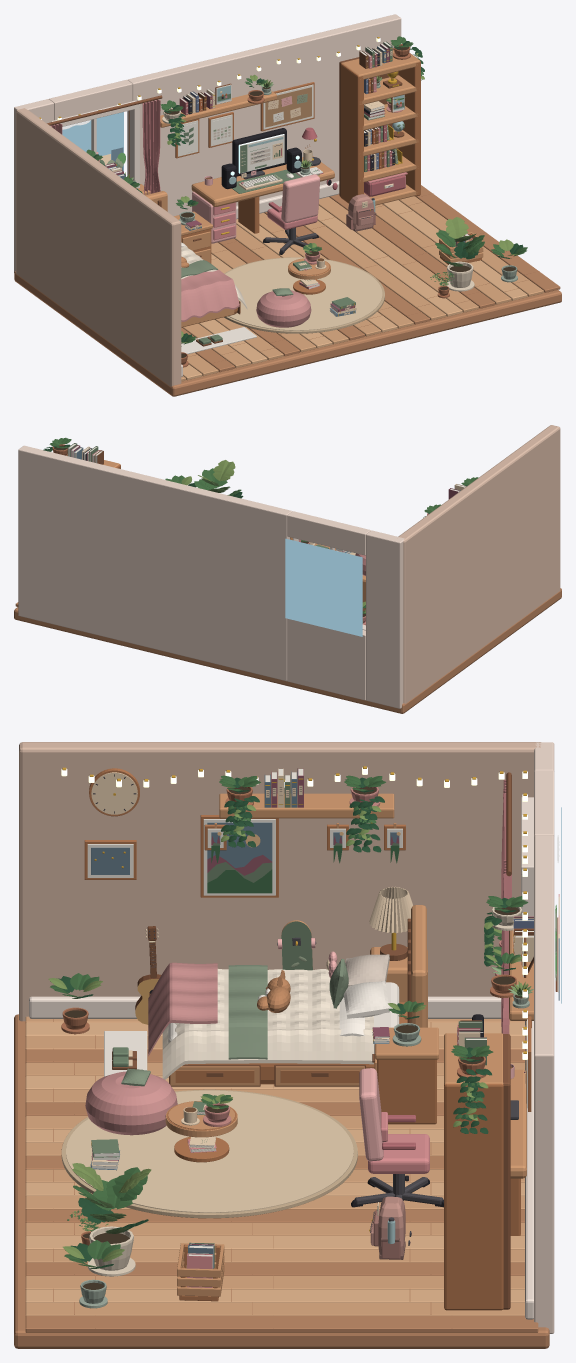
The model's file is cozy-room.glb.
The picture shows the model from 3 angles, top to bottom: view 1: azimuth 30°, elevation 25°; view 2: azimuth 150°, elevation 25°; view 3: azimuth 270°, elevation 25°; orthographic projection. The views are drawn at different scales.
Visible parts, largest first — view 1: room_MAT_WALL_SHADOW, room_MAT_WALL, room_MAT_FLOOR_DARK, room_MAT_FLOOR, room_MAT_OAK_LIGHT, room_MAT_OAK, room_MAT_FLOOR_LIGHT, room_MAT_RUG_CREAM, room_MAT_TEXTILE_ROSE, room_MAT_PAPER, room_MAT_PINK, room_MAT_PINK_LIGHT (+22 smaller); view 2: room_MAT_WALL, room_MAT_WALL_SHADOW, room_MAT_EXTERIOR_UNLIT_MAT_OUTDOOR_SKY, room_MAT_FLOOR_DARK, room_MAT_BOT_LEAF, room_MAT_BOT_LEAF_LIME; view 3: room_MAT_WALL_SHADOW, room_MAT_FLOOR_DARK, room_MAT_FLOOR, room_MAT_OAK, room_MAT_RUG_CREAM, room_MAT_FLOOR_LIGHT, room_MAT_OAK_LIGHT, room_MAT_WALL, room_MAT_TEXTILE_IVORY, room_MAT_TEXTILE_ROSE, room_MAT_TRIM, room_MAT_BOT_LEAF (+24 smaller).
Boxes of the visible parts, left/top/right/bottom form: room_MAT_WALL_SHADOW: left=16, top=108, right=181, bottom=386; room_MAT_WALL: left=14, top=14, right=401, bottom=272; room_MAT_FLOOR_DARK: left=14, top=185, right=561, bottom=396; room_MAT_FLOOR: left=181, top=196, right=543, bottom=381; room_MAT_OAK_LIGHT: left=129, top=50, right=483, bottom=326; room_MAT_OAK: left=175, top=54, right=481, bottom=327; room_MAT_FLOOR_LIGHT: left=183, top=200, right=527, bottom=380; room_MAT_RUG_CREAM: left=225, top=257, right=382, bottom=330; room_MAT_TEXTILE_ROSE: left=181, top=269, right=311, bottom=327; room_MAT_PAPER: left=105, top=42, right=468, bottom=315; room_MAT_PINK: left=51, top=51, right=472, bottom=289; room_MAT_PINK_LIGHT: left=192, top=96, right=405, bottom=243; room_MAT_WALL: left=18, top=445, right=404, bottom=708; room_MAT_WALL_SHADOW: left=397, top=425, right=560, bottom=703; room_MAT_EXTERIOR_UNLIT_MAT_OUTDOOR_SKY: left=285, top=538, right=362, bottom=636; room_MAT_FLOOR_DARK: left=14, top=588, right=561, bottom=713; room_MAT_BOT_LEAF: left=45, top=437, right=478, bottom=613; room_MAT_BOT_LEAF_LIME: left=181, top=460, right=365, bottom=613; room_MAT_WALL_SHADOW: left=19, top=742, right=540, bottom=1021; room_MAT_FLOOR_DARK: left=14, top=1014, right=549, bottom=1348; room_MAT_FLOOR: left=25, top=1016, right=524, bottom=1315; room_MAT_OAK: left=84, top=768, right=531, bottom=1310; room_MAT_RUG_CREAM: left=66, top=1090, right=353, bottom=1212; room_MAT_FLOOR_LIGHT: left=25, top=1022, right=524, bottom=1302; room_MAT_OAK_LIGHT: left=165, top=793, right=533, bottom=1296; room_MAT_WALL: left=534, top=742, right=554, bottom=1333; room_MAT_TEXTILE_IVORY: left=162, top=969, right=373, bottom=1079; room_MAT_TEXTILE_ROSE: left=85, top=962, right=217, bottom=1135; room_MAT_TRIM: left=29, top=797, right=533, bottom=1319; room_MAT_BOT_LEAF: left=50, top=775, right=528, bottom=1266.
Size of the model in its own units: 7.57 by 3.2 by 5.47.
